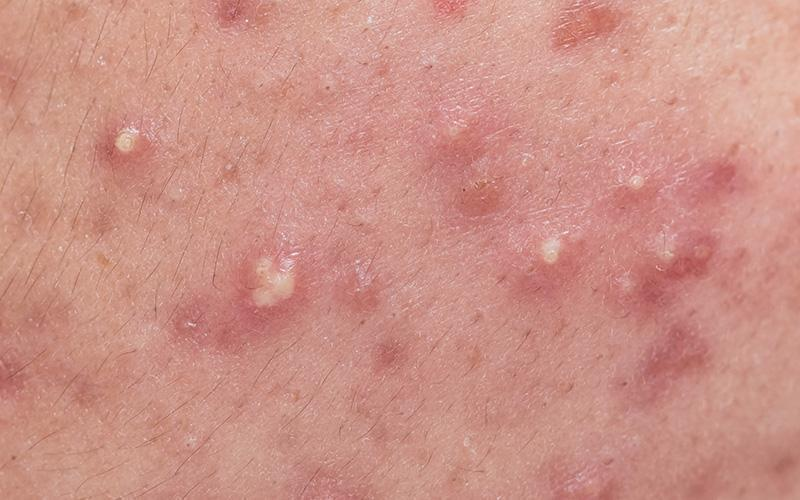blackhead: (316, 75, 343, 112), (377, 29, 403, 65), (487, 53, 508, 82)
purulent: (102, 117, 149, 173), (530, 229, 574, 283), (619, 161, 656, 204)
sebo-crystan-conglo: (240, 241, 302, 334), (655, 226, 735, 288)
